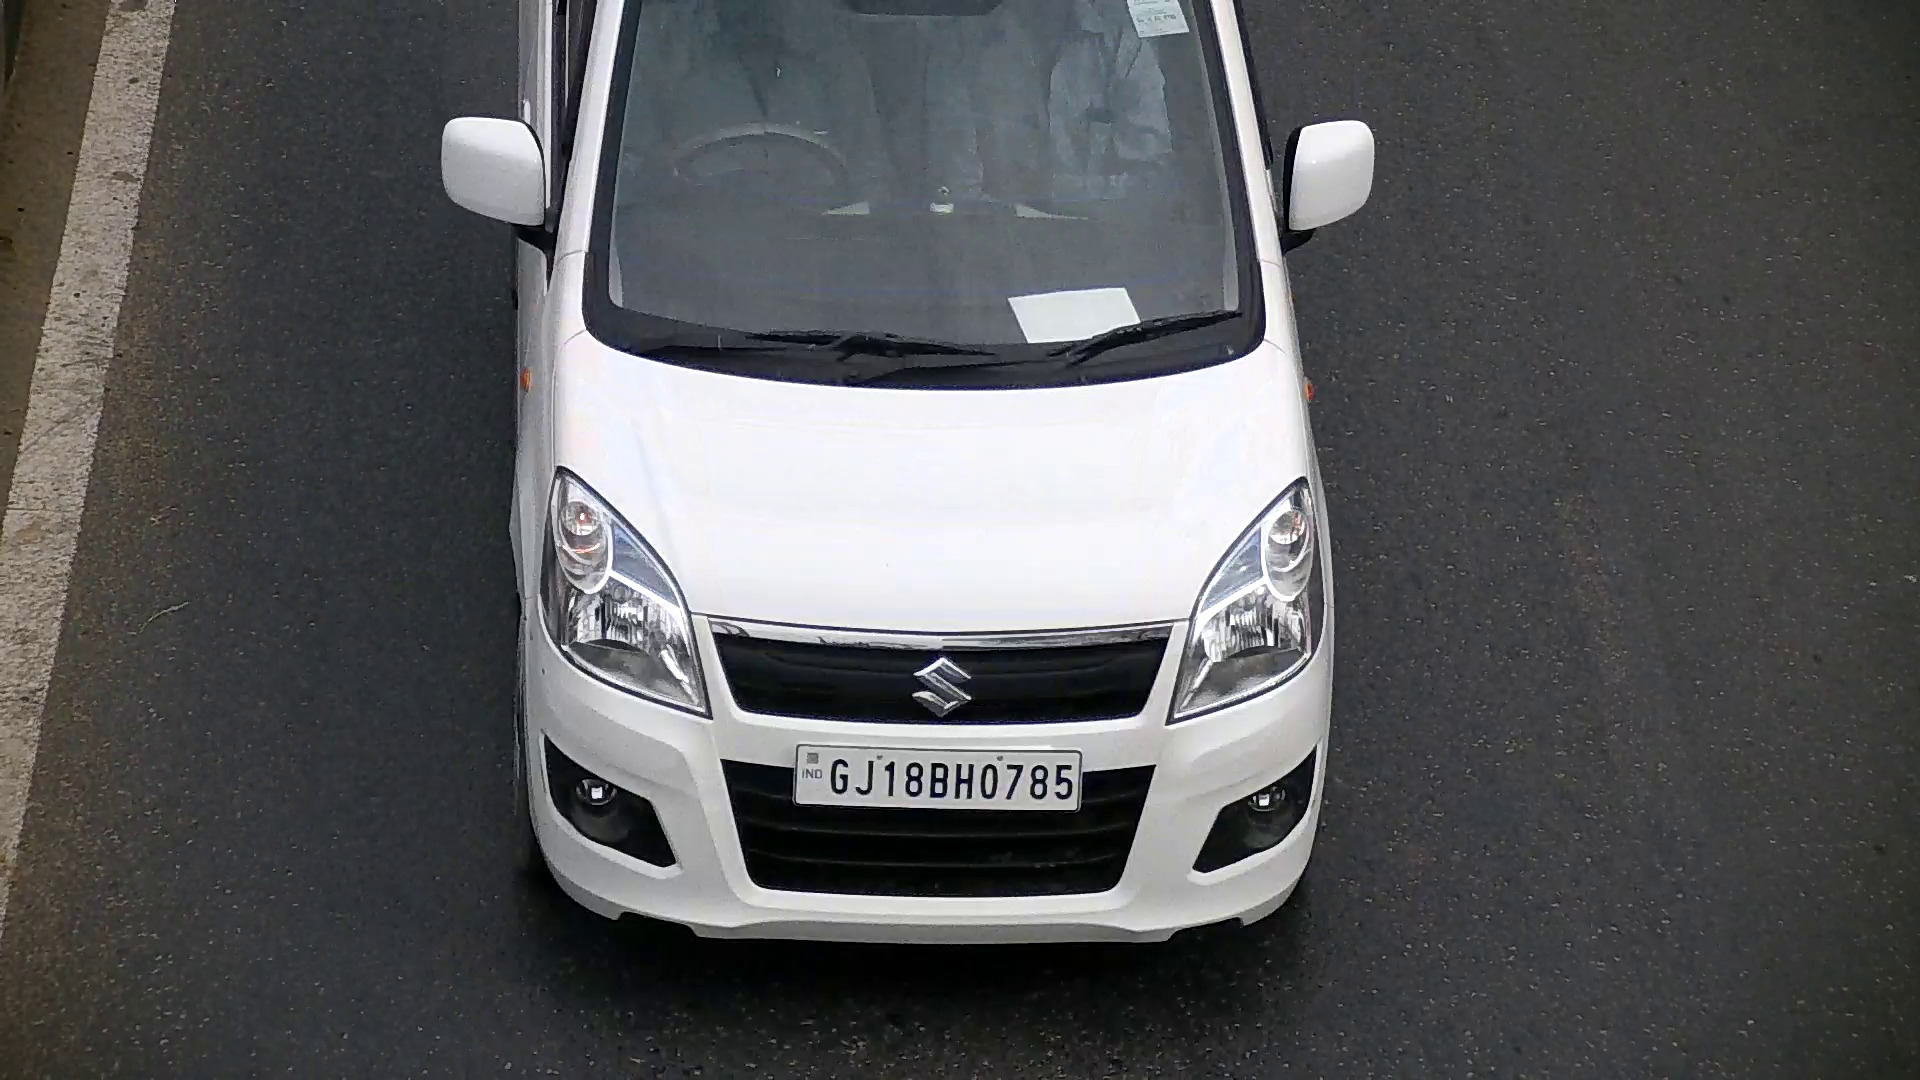numberplate: (792, 740, 1089, 815)
